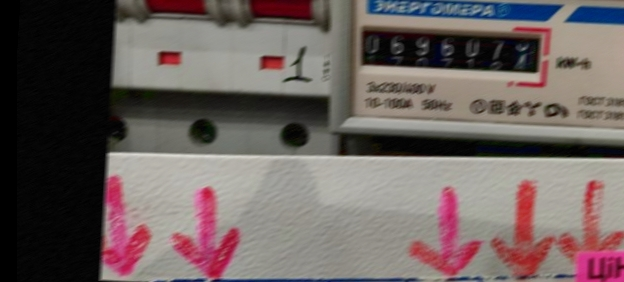0: (464, 36, 481, 59), (364, 34, 380, 55)
4: (514, 52, 528, 74)
6: (389, 34, 405, 56), (439, 37, 454, 58)
7: (489, 40, 505, 62)
9: (414, 36, 429, 57)
screen: (346, 16, 555, 87)
